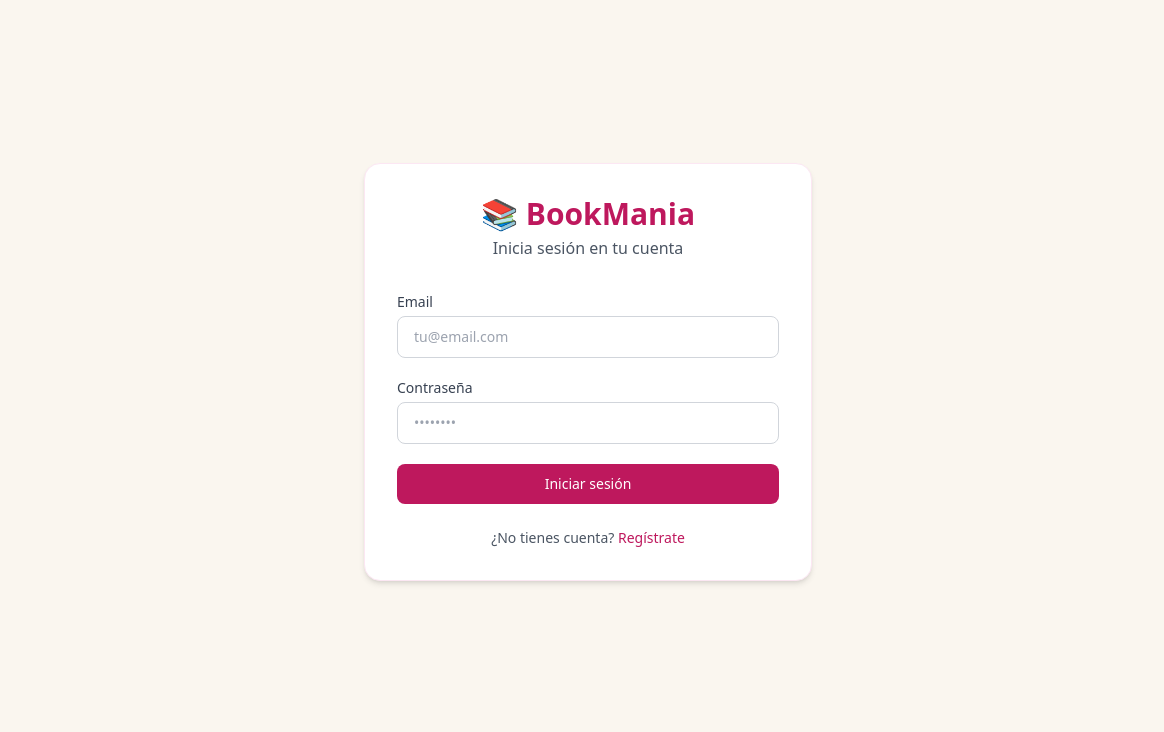
Test: LoginPage › sin ?redirect= vuelve al catálogo
Type "a@a.com" into the field labelled "Email". click: x=588, y=337
box: [397,316,779,358]
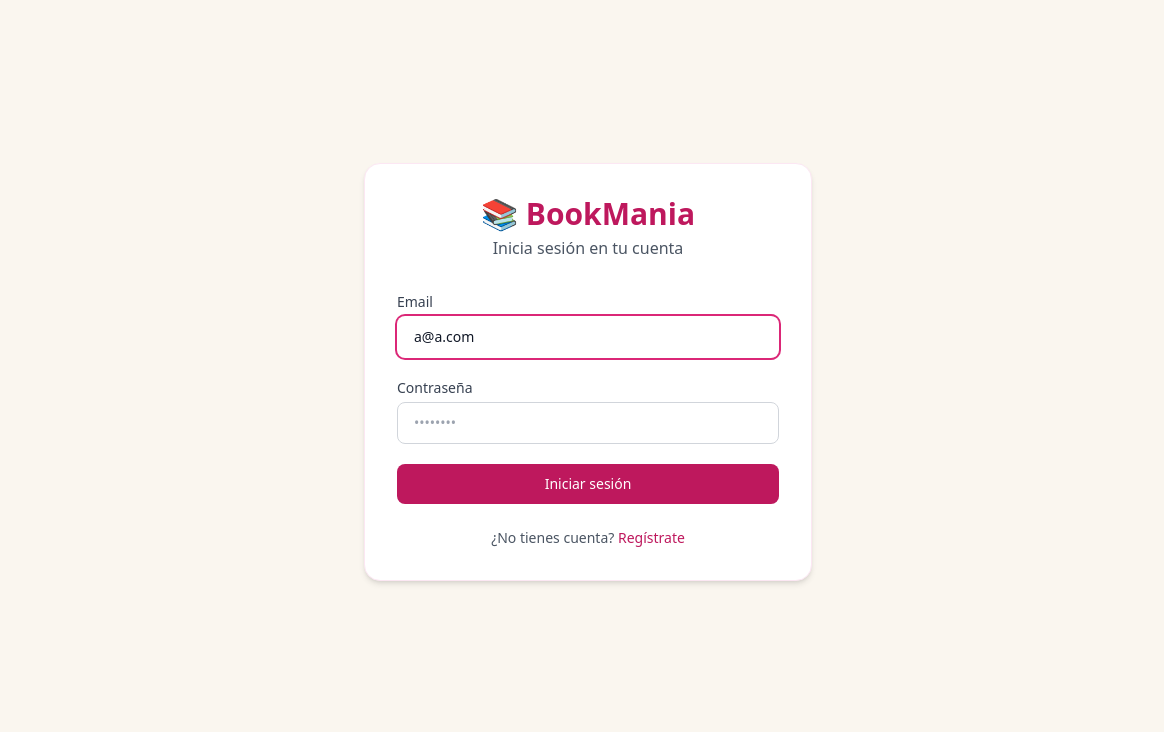
Type "secret" into the password field labelled "Contraseña". click: x=588, y=423
box: [397,402,779,444]
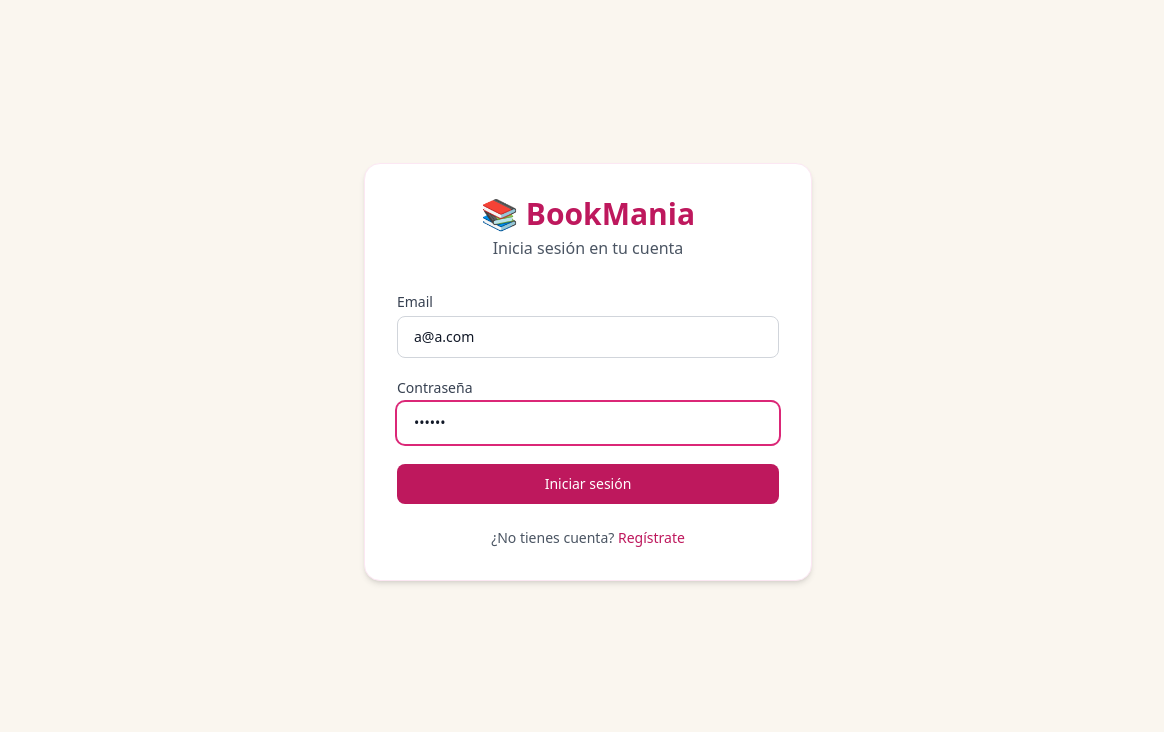
Click the button "Iniciar sesión". click: x=588, y=484
box: [397,464,779,504]
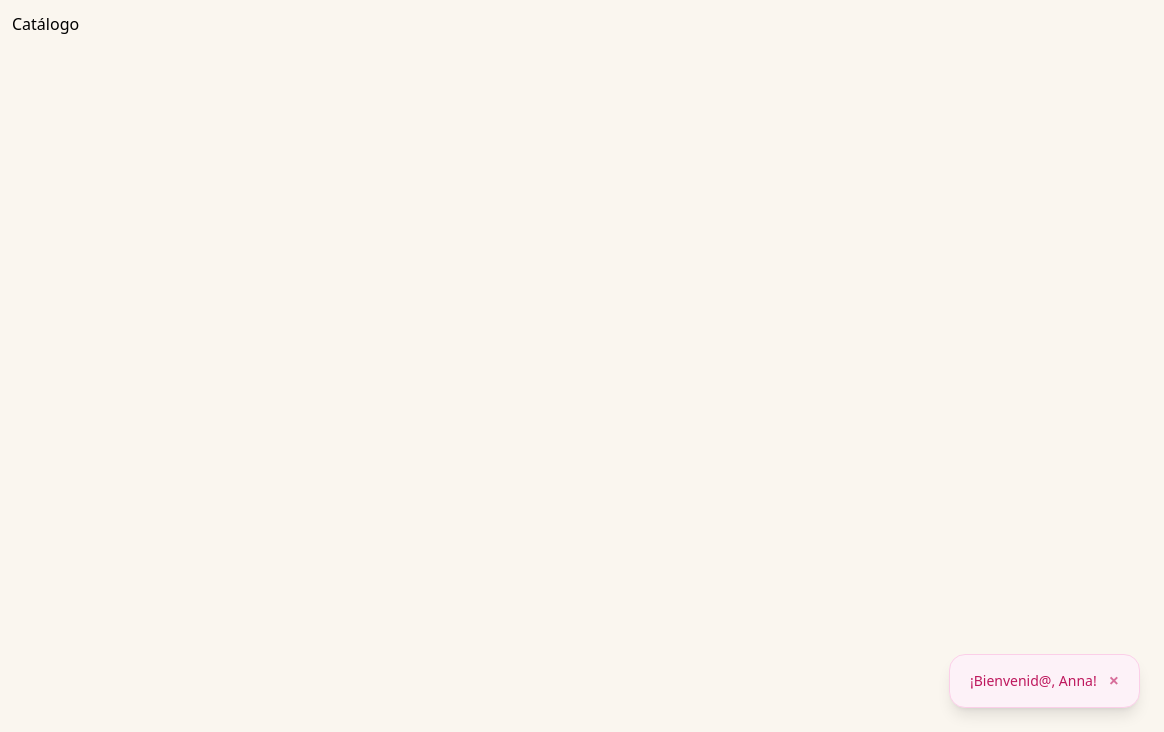
Now the text "Catálogo" is shown, box [12,13,79,35]
